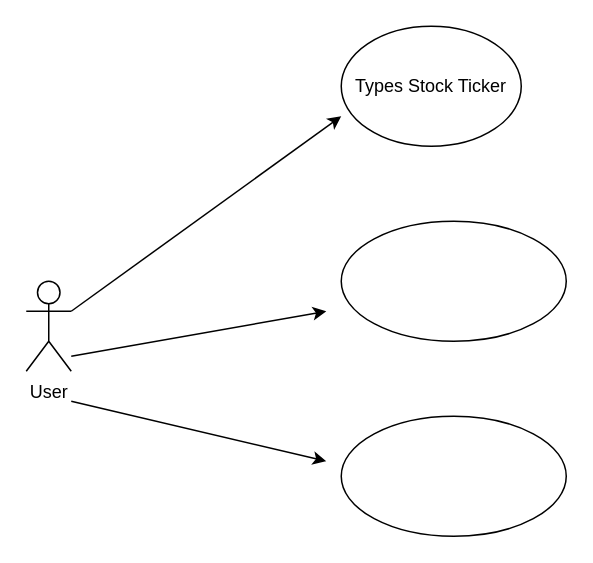
This 593x563 diagram has some shape labels left out. The shapes that lost their labels are listed below. From the top down, each one's centre as x and y in pixels, then its label:
At (x=453, y=280): "Sends HTTP Request to Server (GET)".
At (x=453, y=475): "Server Responds with Data".
